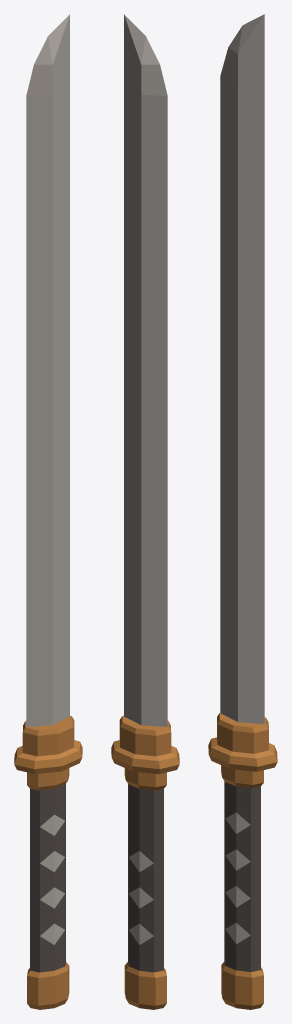
The model's file is SM_pwe_china_sword_07.fbx.
3 renders of one model, left to right at view 1: azimuth 30°, elevation 25°; view 2: azimuth 150°, elevation 25°; view 3: azimuth 330°, elevation 25°, orthographic.
Visible parts, largest first — view 1: SM_pwe_china_sword_07; view 2: SM_pwe_china_sword_07; view 3: SM_pwe_china_sword_07.
Boxes of the visible parts, <box> form: SM_pwe_china_sword_07: <box>14,14,82,1009</box>; SM_pwe_china_sword_07: <box>111,14,179,1009</box>; SM_pwe_china_sword_07: <box>208,14,277,1009</box>.
Bounding box in the file's own units: 5.32 × 73.05 × 3.68.
